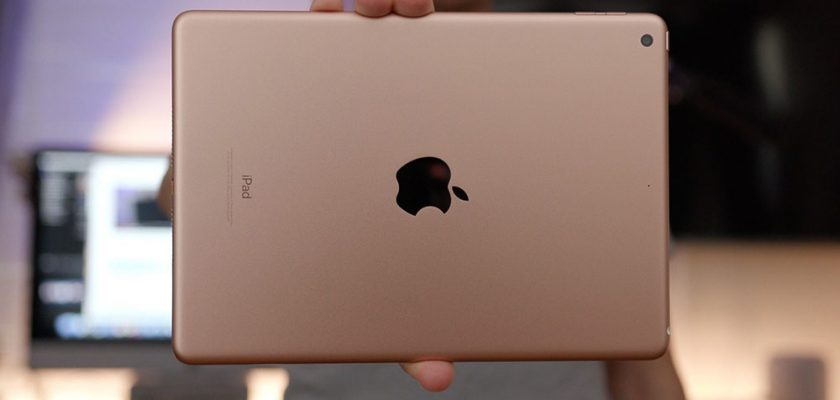apple: (359, 123, 493, 242)
